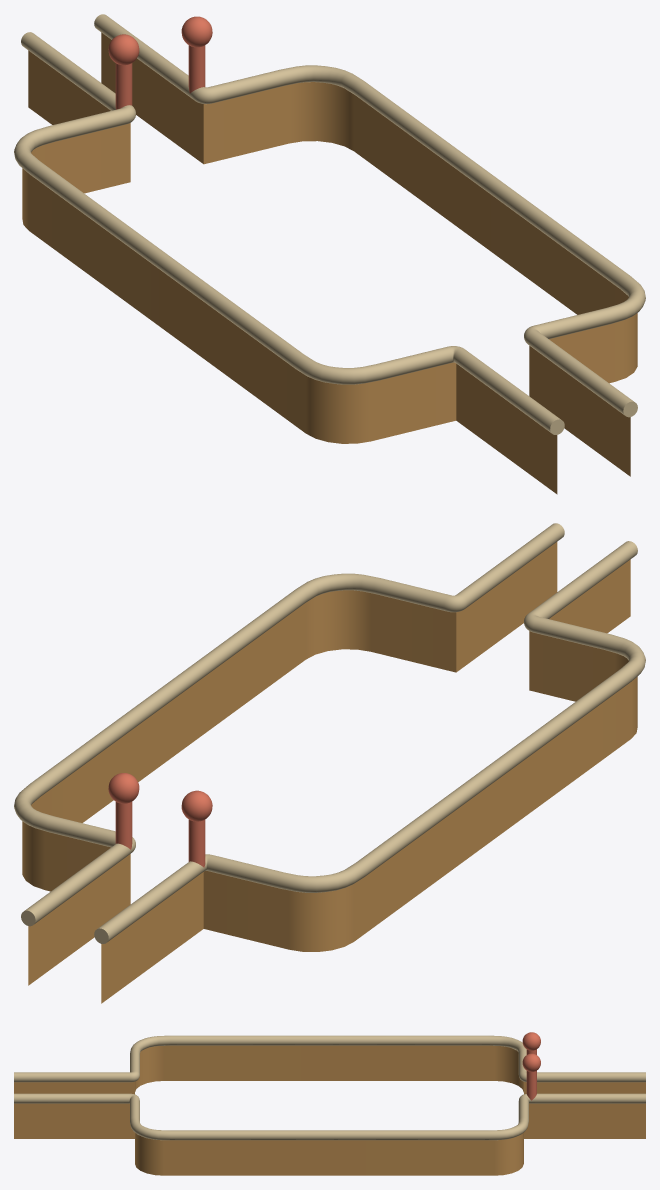
Rendered from LevelMiddle.fbx.
3 renders of one model, top to bottom at view 1: azimuth 30°, elevation 25°; view 2: azimuth 150°, elevation 25°; view 3: azimuth 270°, elevation 25°, orthographic. The views are drawn at different scales.
Visible parts, largest first — view 1: LevelMiddle; view 2: LevelMiddle; view 3: LevelMiddle.
Part boxes in pixels (left/top/right/bottom): LevelMiddle: left=14, top=14, right=645, bottom=494; LevelMiddle: left=14, top=523, right=645, bottom=1003; LevelMiddle: left=14, top=1032, right=645, bottom=1175.
Size of the model in its own units: 580 by 231 by 1564.
